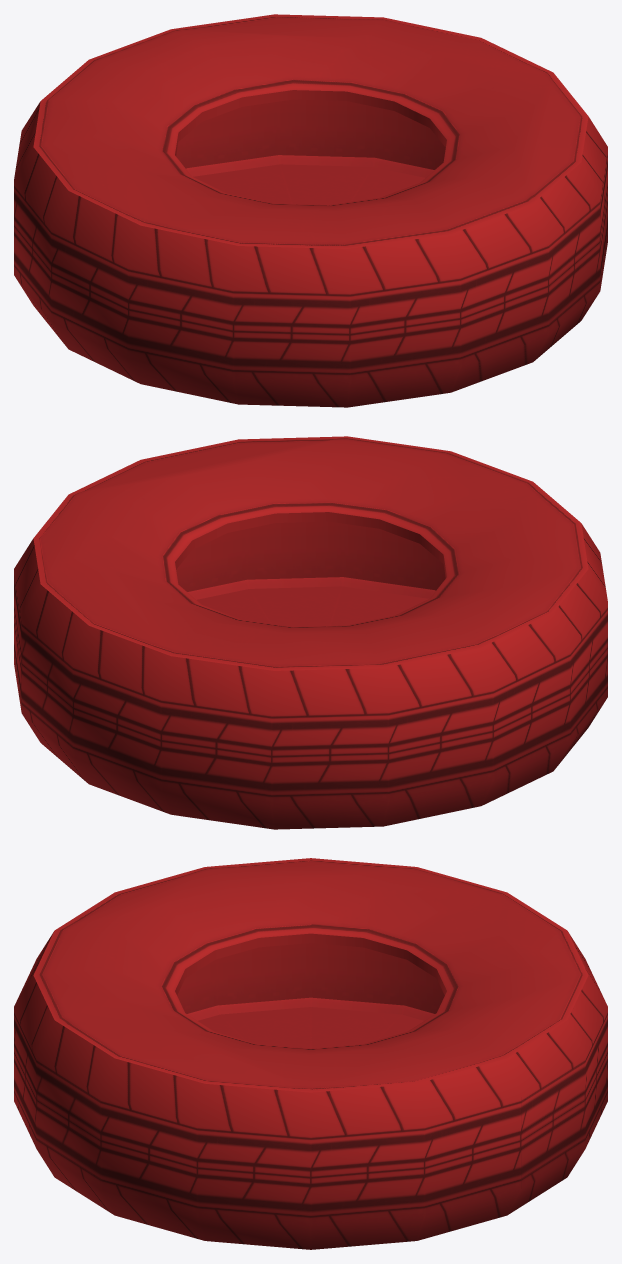
Rendered from active.Tyre-02.glb.
The picture shows the model from 3 angles, top to bottom: view 1: azimuth 30°, elevation 25°; view 2: azimuth 150°, elevation 25°; view 3: azimuth 270°, elevation 25°; orthographic projection.
Visible parts, largest first — view 1: active.Tyre 02; view 2: active.Tyre 02; view 3: active.Tyre 02.
Boxes of the visible parts, x1,y1,x2,y2 form: active.Tyre 02: (14,14,607,407); active.Tyre 02: (14,436,607,829); active.Tyre 02: (14,858,607,1249).
Bounding box in the file's own units: 1.14 × 0.3667 × 1.14.
Materials: 1 (1 with a texture image).
